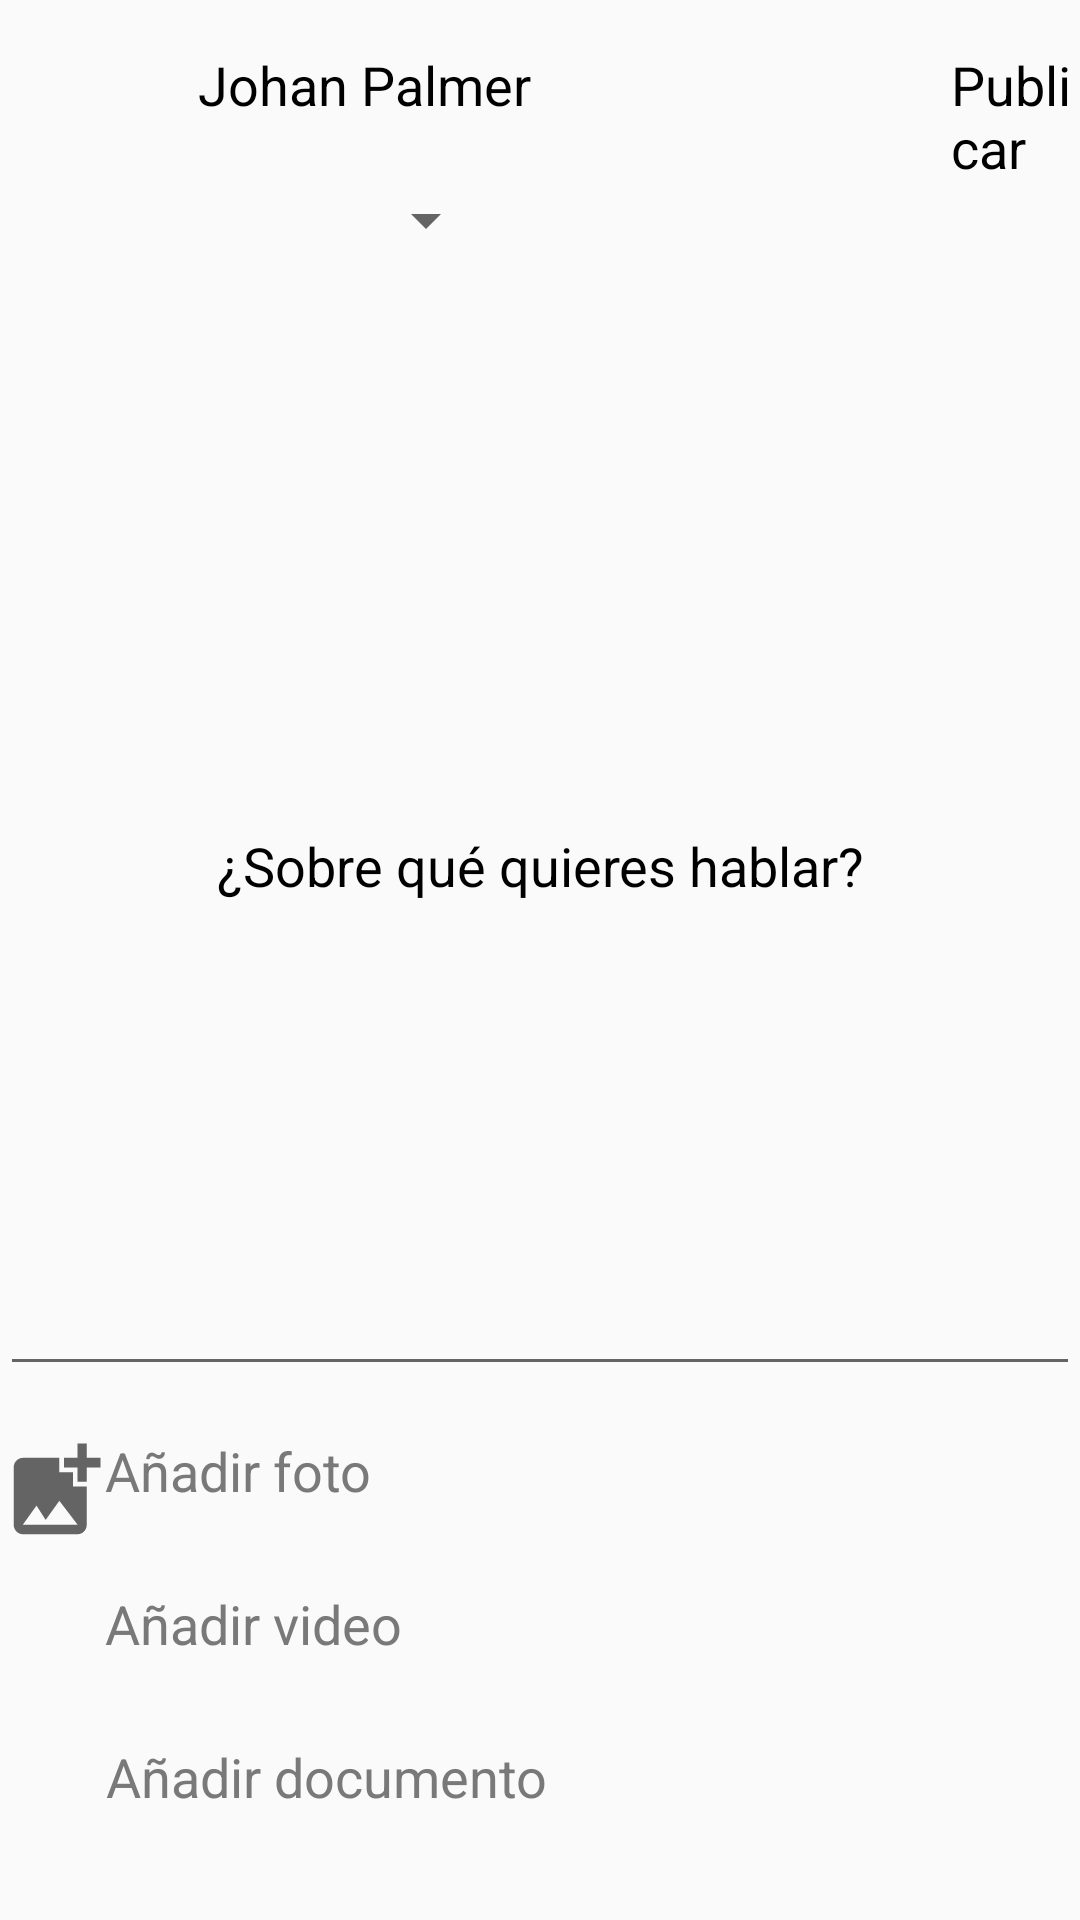

Icons on this 1080×1920 Android screen, each with its box as (x1, y1, x2, y2):
add photo alternate: (13, 1443, 101, 1535)
